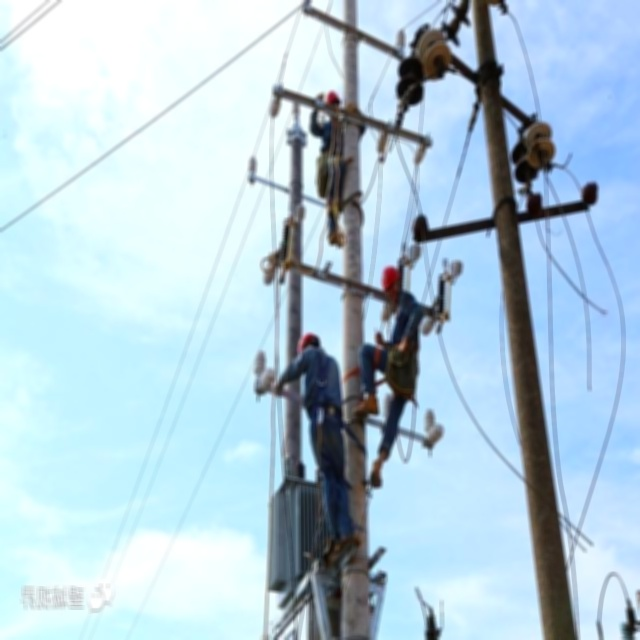Con_Casco: (380, 265, 400, 304), (298, 328, 320, 359)
